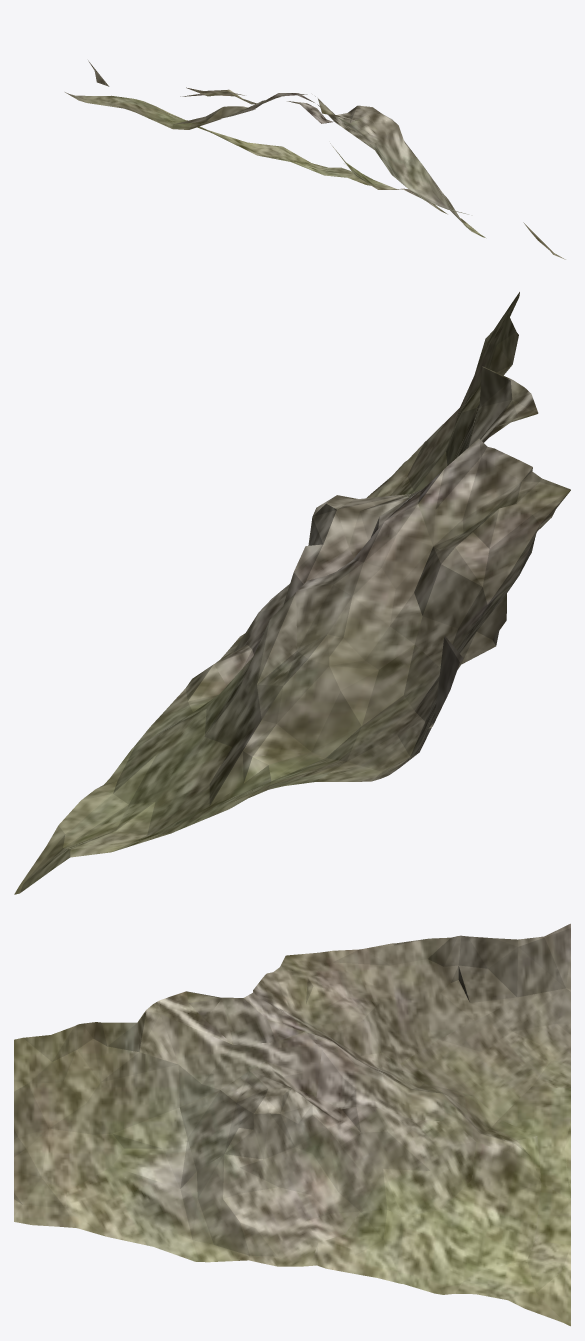
3 renders of one model, top to bottom at view 1: azimuth 30°, elevation 25°; view 2: azimuth 150°, elevation 25°; view 3: azimuth 270°, elevation 25°, orthographic. The views are drawn at different scales.
Size of the model in its own units: 1.96 by 1.44 by 2.95.
2 materials, 2 textured.
